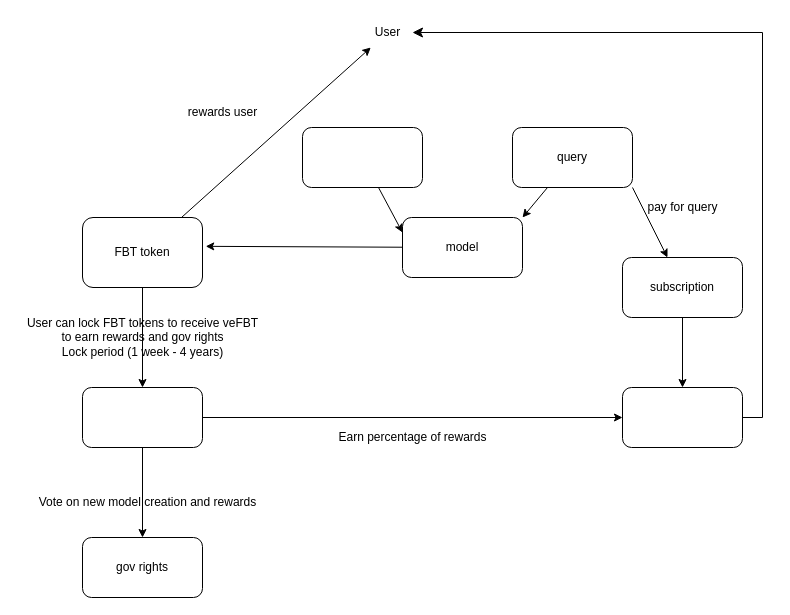
Some shapes in this 790 by 615 pixel diagram are drawn without their labels. Here are the shapes that lost their labels. From the top down, the centre of each, then its label:
(362,157): train
(142,417): veToken
(682,417): rewards pool
